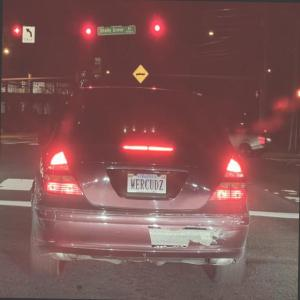Plate: (125, 171, 167, 198)
